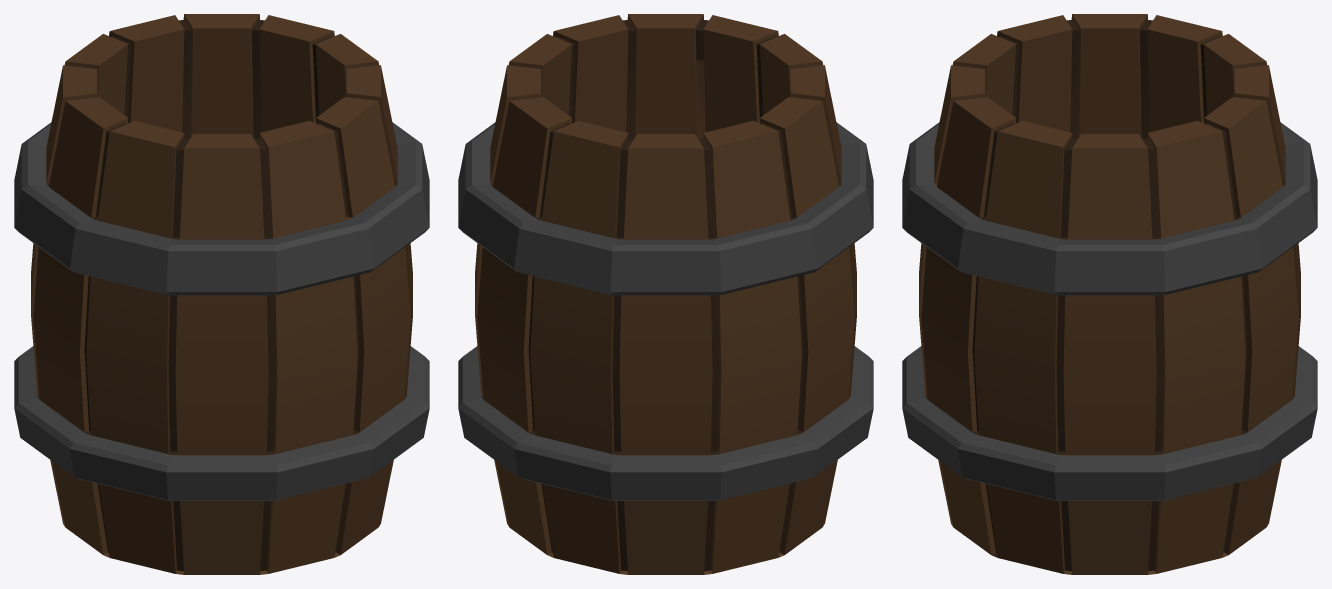
File: Бочка2.fbx
3 views of the same model, side by side, from view 1: azimuth 30°, elevation 25°; view 2: azimuth 150°, elevation 25°; view 3: azimuth 270°, elevation 25° (orthographic).
Parts seen in each view (by area): view 1: Circle.004, Circle.005, Circle.007, Circle.003, Circle.006; view 2: Circle.004, Circle.005, Circle.007, Circle.003, Circle.006; view 3: Circle.004, Circle.005, Circle.007, Circle.003, Circle.006.
Boxes of the visible parts, x1,y1,x2,y2 form: Circle.004: [46, 14, 397, 454]; Circle.005: [31, 185, 412, 455]; Circle.007: [14, 122, 429, 295]; Circle.003: [50, 460, 393, 574]; Circle.006: [14, 346, 429, 500]; Circle.004: [490, 14, 841, 454]; Circle.005: [475, 185, 856, 455]; Circle.007: [458, 122, 873, 295]; Circle.003: [494, 460, 837, 574]; Circle.006: [458, 346, 873, 500]; Circle.004: [934, 14, 1285, 454]; Circle.005: [919, 185, 1300, 455]; Circle.007: [902, 122, 1317, 295]; Circle.003: [938, 460, 1281, 574]; Circle.006: [902, 346, 1317, 500].
Size of the model in its own units: 254 by 287 by 254.
